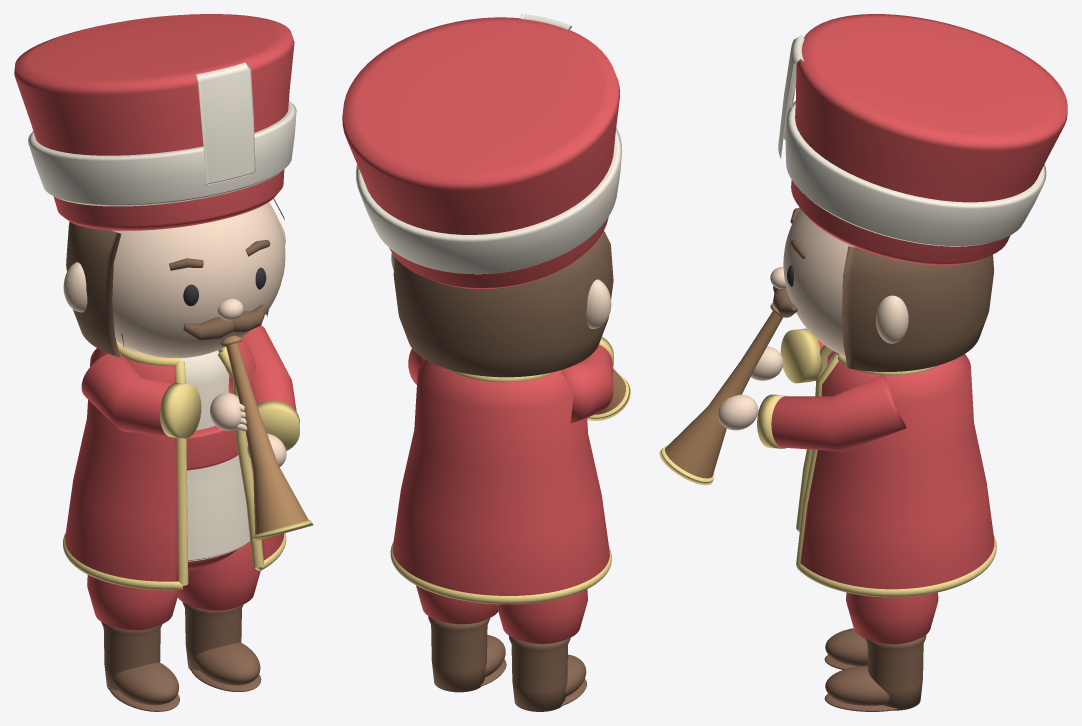
The model's file is mehter_karakter_revize.glb.
3 views of the same model, side by side, from view 1: azimuth 30°, elevation 25°; view 2: azimuth 150°, elevation 25°; view 3: azimuth 270°, elevation 25° (orthographic).
Visible parts, largest first — view 1: HatRed, RedCaftanAndSalvar, SkinAndHands, HatCream, Boots, GoldTrim, CreamTunic, HairAndMustache, Zurna, Eyes; view 2: HatRed, RedCaftanAndSalvar, HairAndMustache, HatCream, Boots, GoldTrim, SkinAndHands; view 3: HatRed, RedCaftanAndSalvar, HairAndMustache, HatCream, SkinAndHands, GoldTrim, Boots, Zurna.
Boxes of the visible parts, x1,y1,x2,y2 form: HatRed: (14, 14, 294, 230); RedCaftanAndSalvar: (65, 325, 296, 630); SkinAndHands: (63, 202, 286, 466); HatCream: (28, 62, 296, 206); Boots: (101, 602, 261, 711); GoldTrim: (63, 341, 313, 590); CreamTunic: (123, 345, 250, 561); HairAndMustache: (66, 198, 284, 357); Zurna: (220, 335, 308, 534); Eyes: (183, 267, 266, 306); HatRed: (342, 17, 619, 288); RedCaftanAndSalvar: (392, 344, 613, 643); HairAndMustache: (393, 231, 613, 377); HatCream: (355, 14, 622, 274); Boots: (428, 616, 586, 711); GoldTrim: (390, 337, 630, 604); SkinAndHands: (391, 253, 611, 328); HatRed: (791, 14, 1067, 265); RedCaftanAndSalvar: (771, 339, 994, 644); HairAndMustache: (773, 207, 994, 371); HatCream: (778, 35, 1046, 246); SkinAndHands: (718, 209, 908, 430); GoldTrim: (659, 328, 996, 597); Boots: (824, 628, 926, 711); Zurna: (665, 303, 785, 478).
Size of the model in its own units: 0.83 by 2.1 by 1.22.
